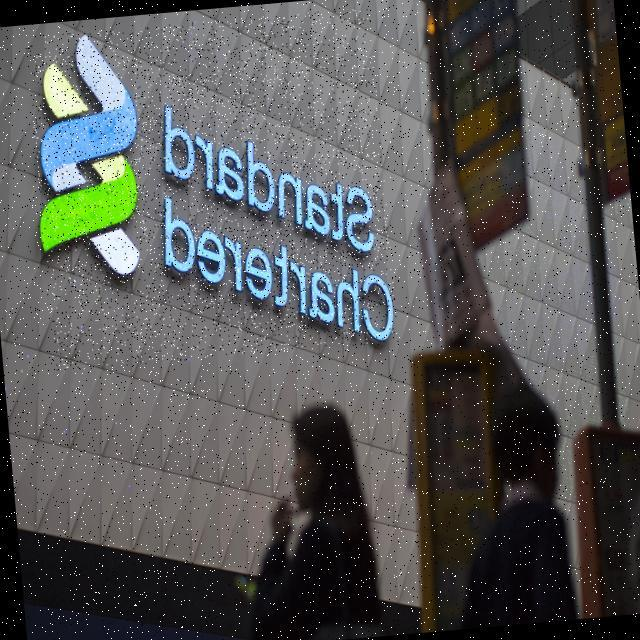Standard Chartered: (24, 7, 398, 371)
